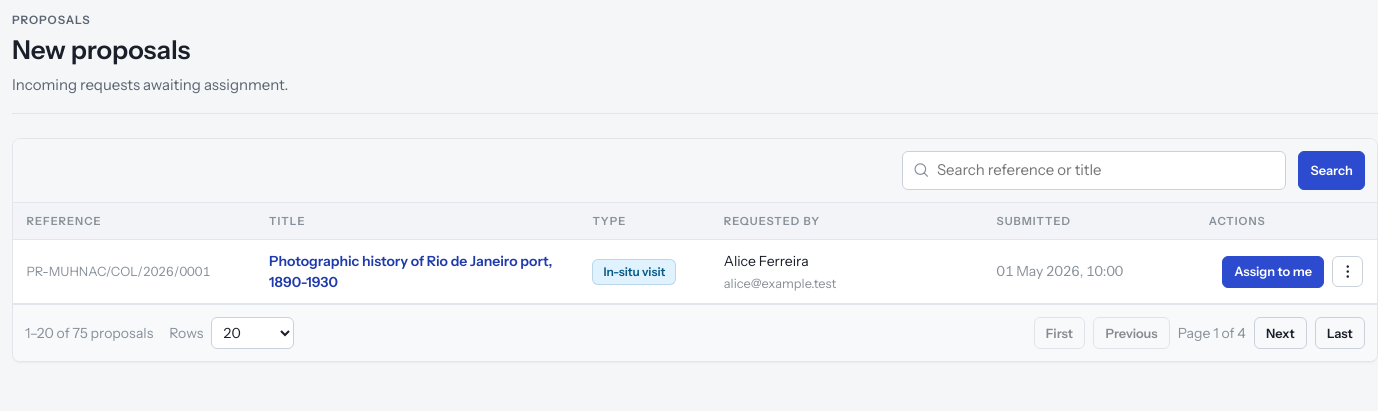
Scenario: ProposalsNewPageComponent › keeps search controls visible when a search has no results
This screenshot has width=1378, height=411.
In the search field with placeholder "Search reference or title": point(1094, 170) [902,151,1286,190], type "missing"
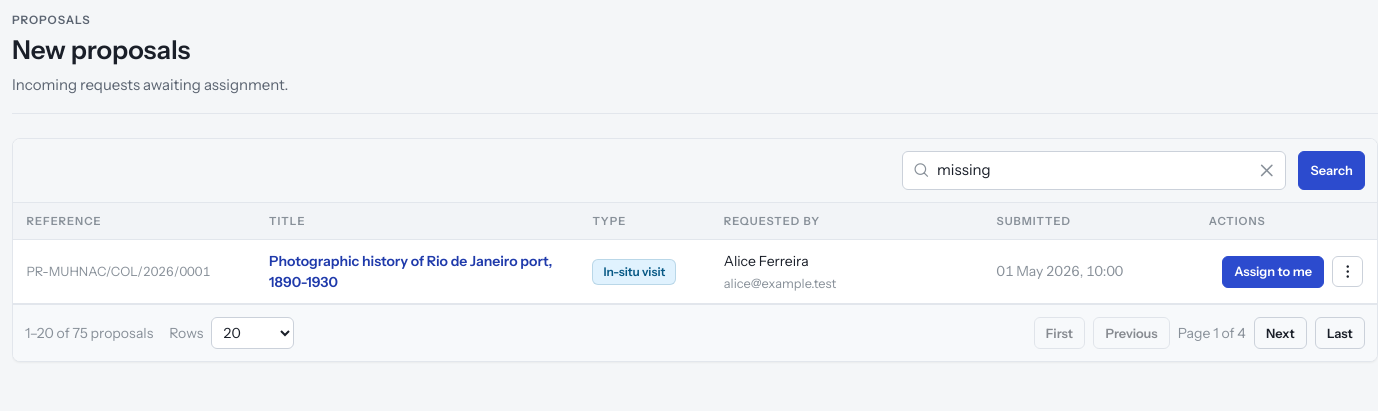
Click the button with class "action-btn--primary" showing "Search": point(1332, 170) [1298,151,1365,190]
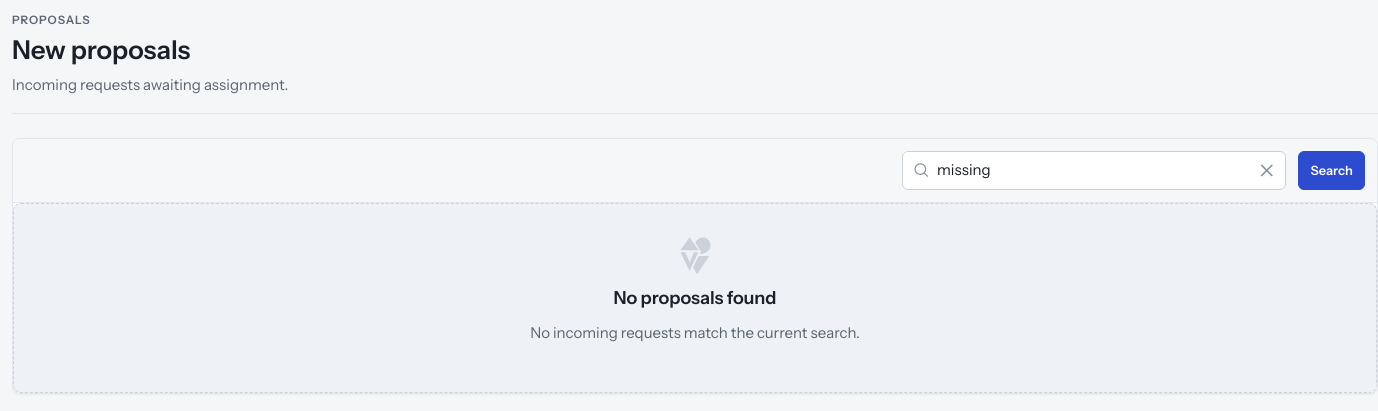
Expected: the search field named "Search new proposals" is shown, [902,151,1286,190]
Now the text "No proposals found" is shown, box [614,287,776,310]
